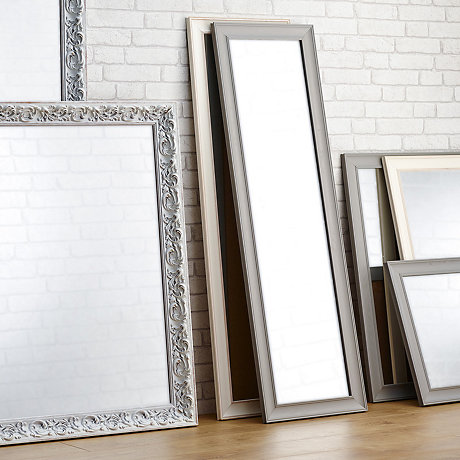Nonrec_Glass: (174, 8, 375, 426), (1, 92, 203, 437), (339, 133, 457, 412)
